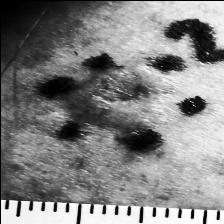Potentially Malignant Skin Tumors: (58, 60, 192, 138)
